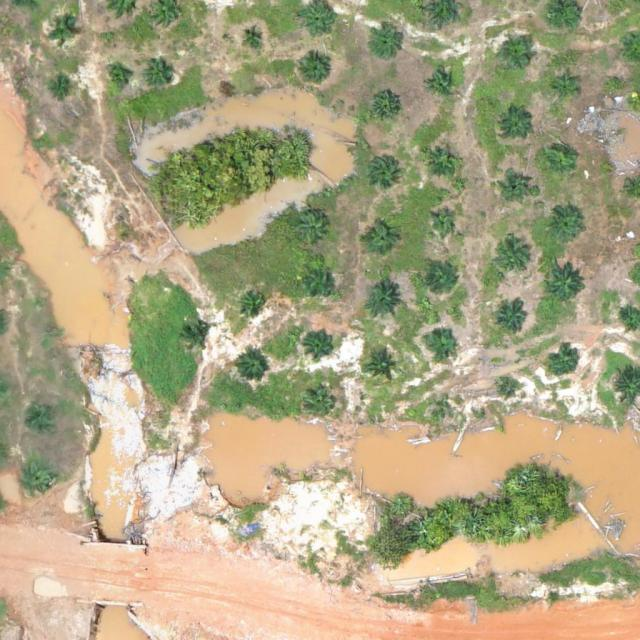Small: (364, 283, 404, 323), (546, 262, 585, 302), (495, 239, 534, 279), (424, 140, 463, 180), (544, 206, 583, 245), (296, 52, 335, 91), (426, 326, 457, 358), (428, 264, 459, 296), (365, 224, 396, 256), (371, 28, 402, 60), (298, 215, 329, 247), (305, 267, 336, 299), (305, 328, 336, 360), (368, 352, 399, 384), (370, 91, 401, 123), (426, 69, 457, 101), (498, 305, 529, 336), (548, 346, 579, 377), (502, 170, 533, 201), (504, 41, 535, 72), (501, 110, 532, 141), (543, 145, 574, 176), (368, 156, 399, 187), (237, 353, 268, 384), (24, 468, 55, 499), (30, 402, 61, 433), (306, 391, 337, 422), (239, 288, 270, 319), (182, 323, 213, 354), (145, 60, 176, 91), (552, 75, 576, 99), (51, 19, 75, 43), (52, 76, 76, 100), (106, 65, 130, 89), (432, 211, 455, 235), (243, 26, 266, 50), (501, 379, 517, 395), (442, 400, 457, 416)
